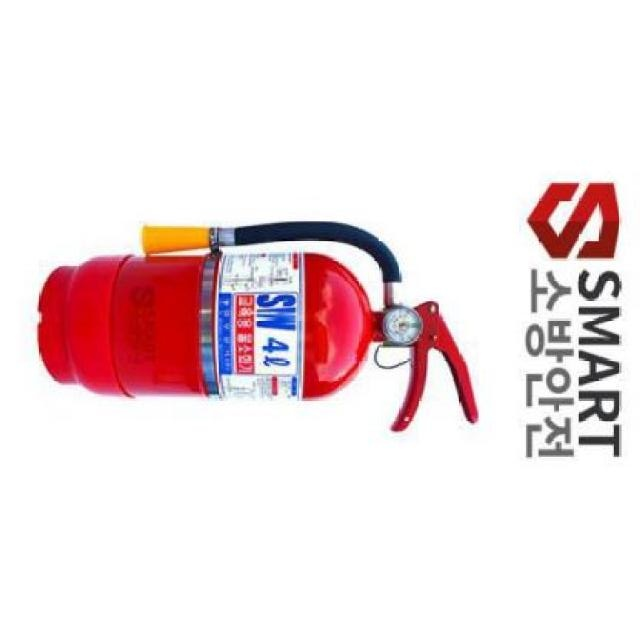fire extinguisher: (36, 220, 481, 432)
